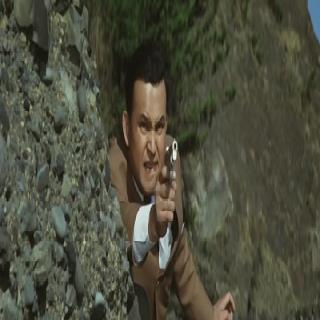gun: (155, 126, 183, 240)
